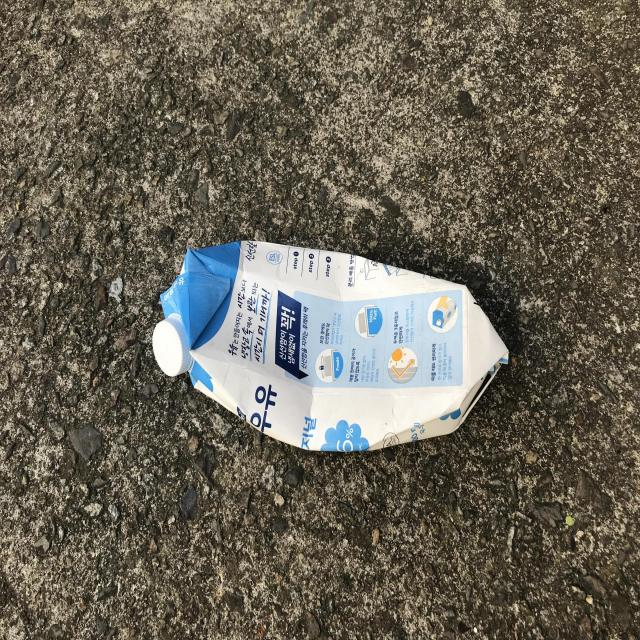paperpack: (152, 240, 509, 452)
